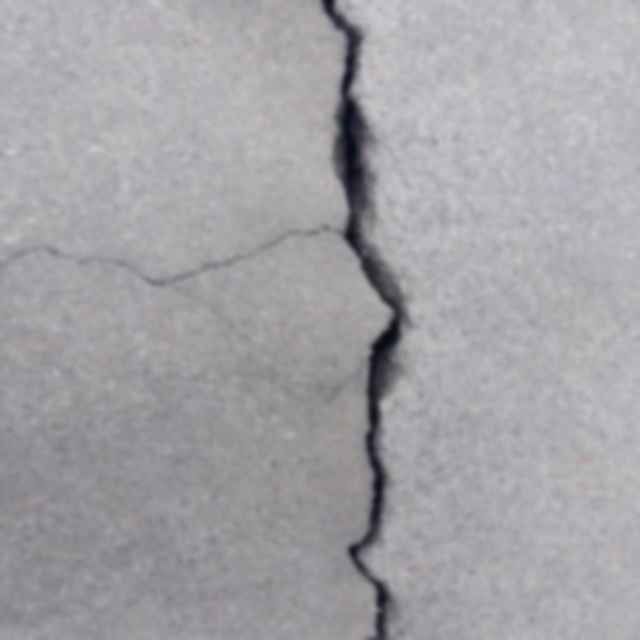SurfaceCrack: (0, 190, 364, 340)
